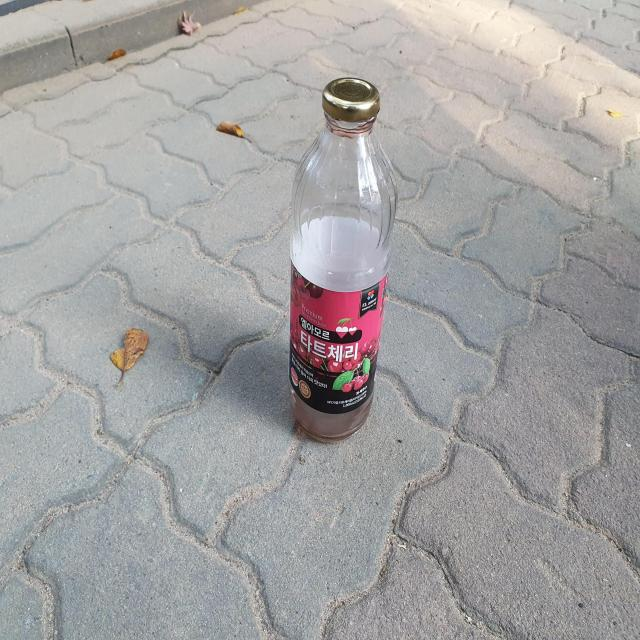glass: (289, 76, 397, 441)
